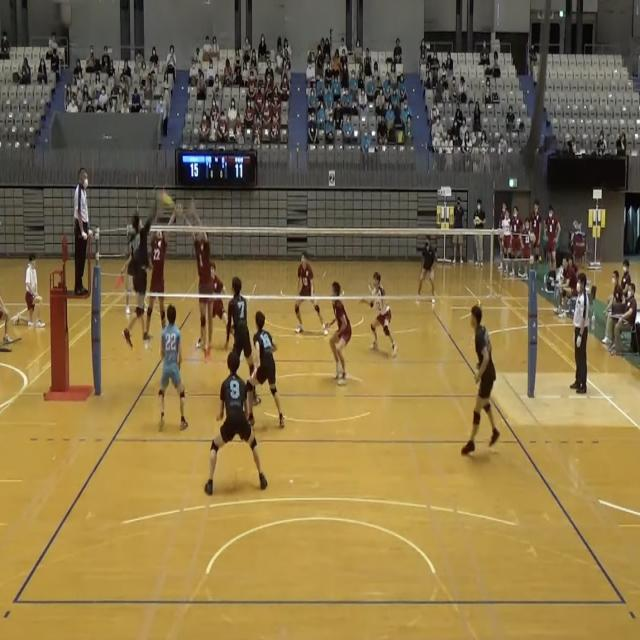spike: (124, 193, 162, 355)
